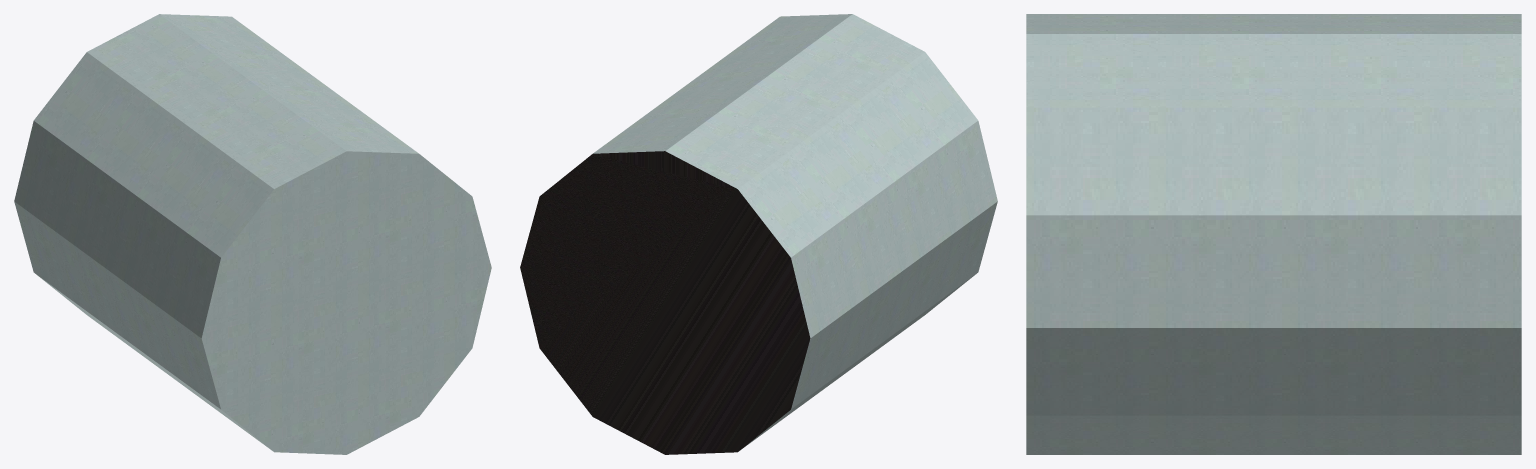
File: ywj001-geode.glb
The picture shows the model from 3 angles, left to right: view 1: azimuth 30°, elevation 25°; view 2: azimuth 150°, elevation 25°; view 3: azimuth 270°, elevation 25°; orthographic projection. The views are drawn at different scales.
Visible parts, largest first — view 1: Node; view 2: Node; view 3: Node.
Part boxes in pixels (x1,y1,x2,y2): Node: [14, 14, 491, 454]; Node: [520, 14, 997, 454]; Node: [1026, 14, 1521, 454].
Size of the model in its own units: 0.3352 by 0.3352 by 0.3749.
2 materials, 2 textured.
